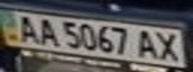0: (78, 21, 96, 52)
5: (57, 19, 81, 49)
6: (93, 24, 115, 54)
7: (112, 25, 133, 56)
A: (133, 27, 163, 61), (12, 12, 42, 44), (33, 16, 60, 47)
X: (151, 29, 187, 63)
